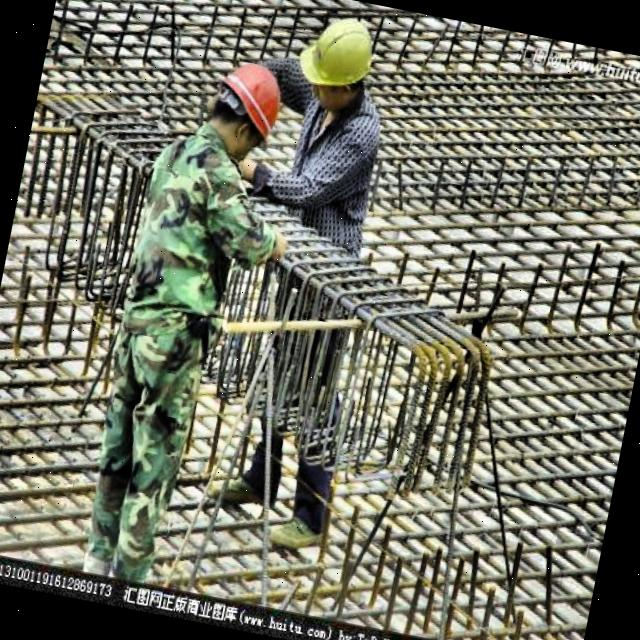helmet: (192, 47, 298, 177), (284, 5, 390, 124)
